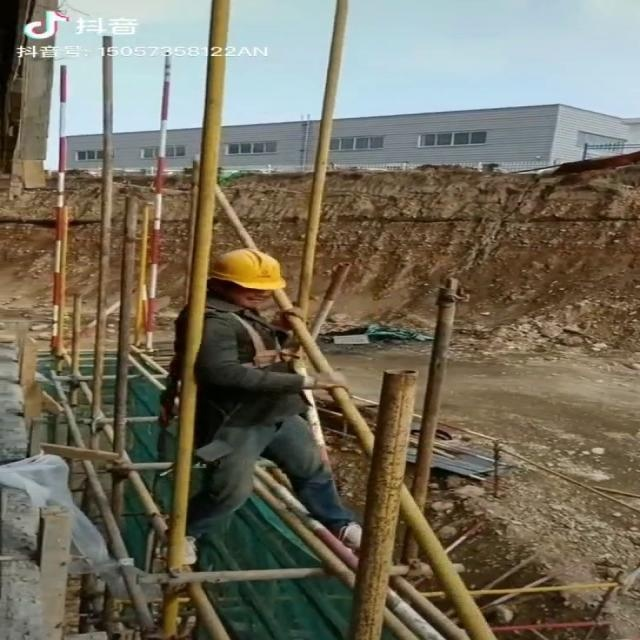Arnes_seguridad: (182, 305, 320, 401)
